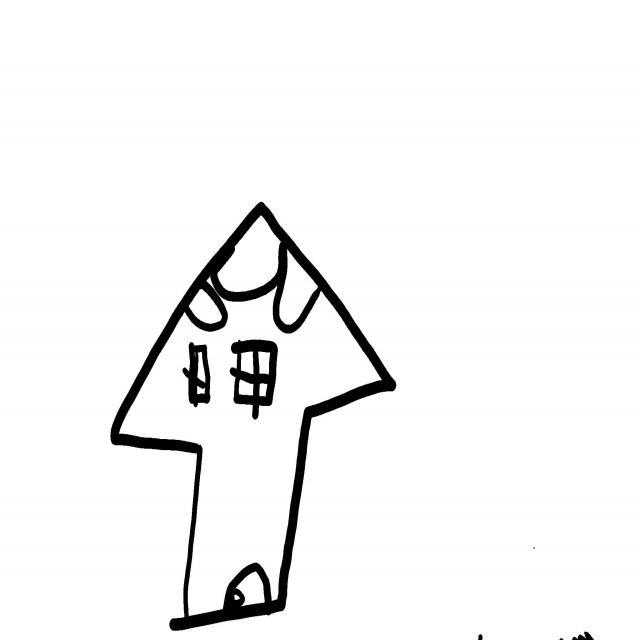door: (225, 564, 271, 614)
house: (111, 203, 396, 631)
wall: (181, 414, 308, 624)
window: (230, 341, 278, 420), (182, 343, 210, 406)
